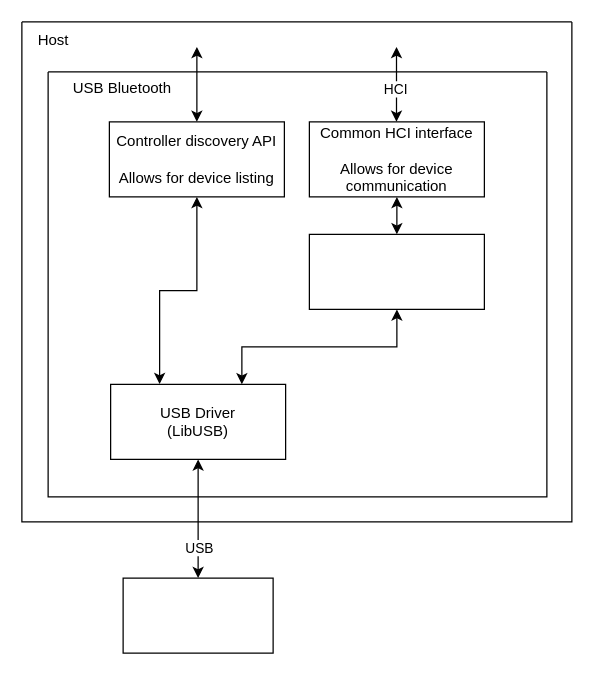
Some shapes in this 594 by 675 pixel diagram are drawn without their labels. Here are the shapes that lost their labels. From the top down, the centre of each, then its label:
the point at 396,271: USB Transport Layer
the point at 197,615: USB Controller
